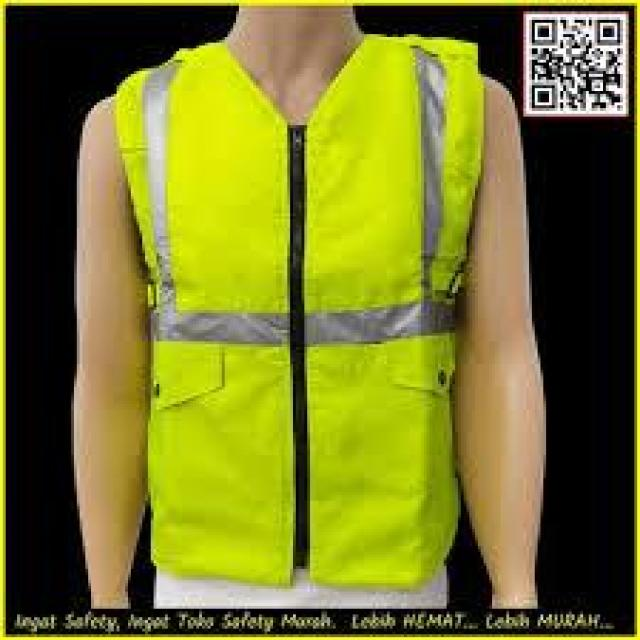vest: (110, 37, 482, 592)
